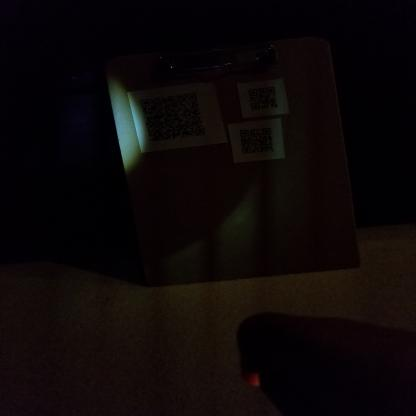qr: (135, 91, 209, 145), (236, 124, 277, 159), (243, 84, 280, 114)
